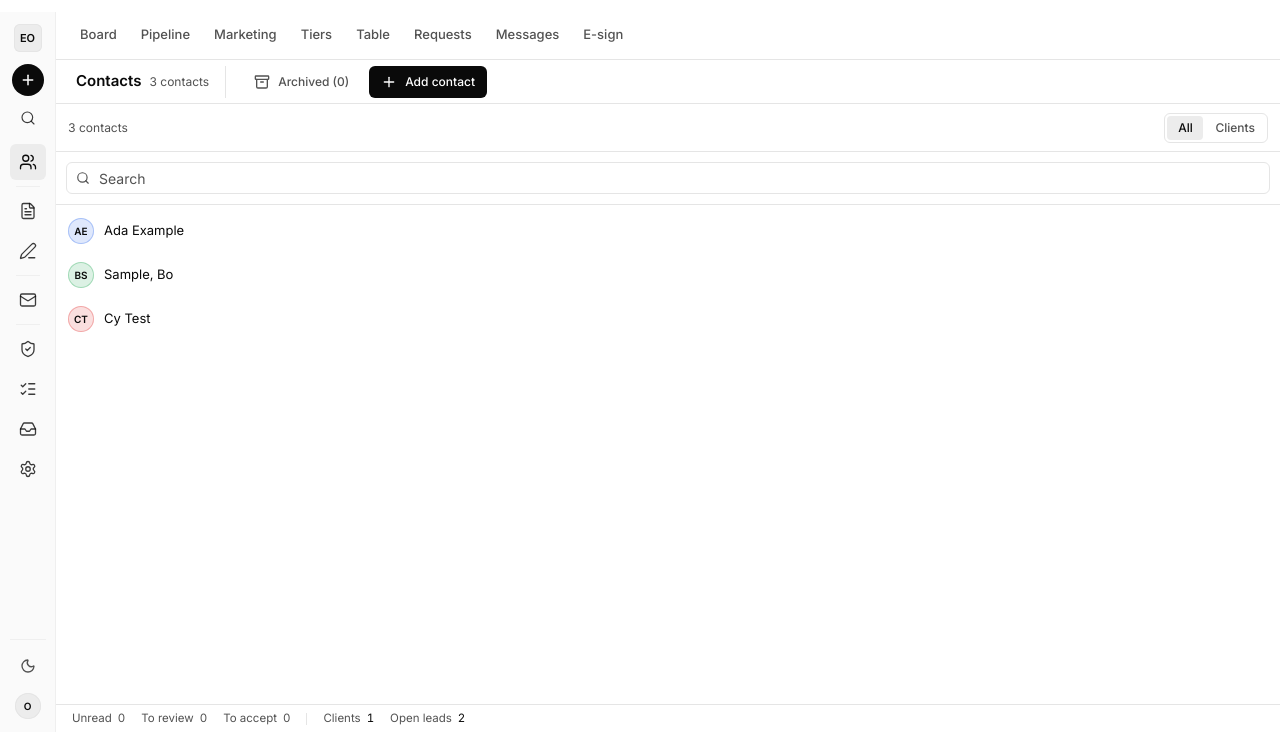
Test: contacts index › clears every cached query on sign-out
The width and height of the screenshot is (1280, 732).
Expected: the link "Sample, Bo" is shown, [104,266,173,282]
Press Enter in the button named "Signed in as", box [10,688,46,724]
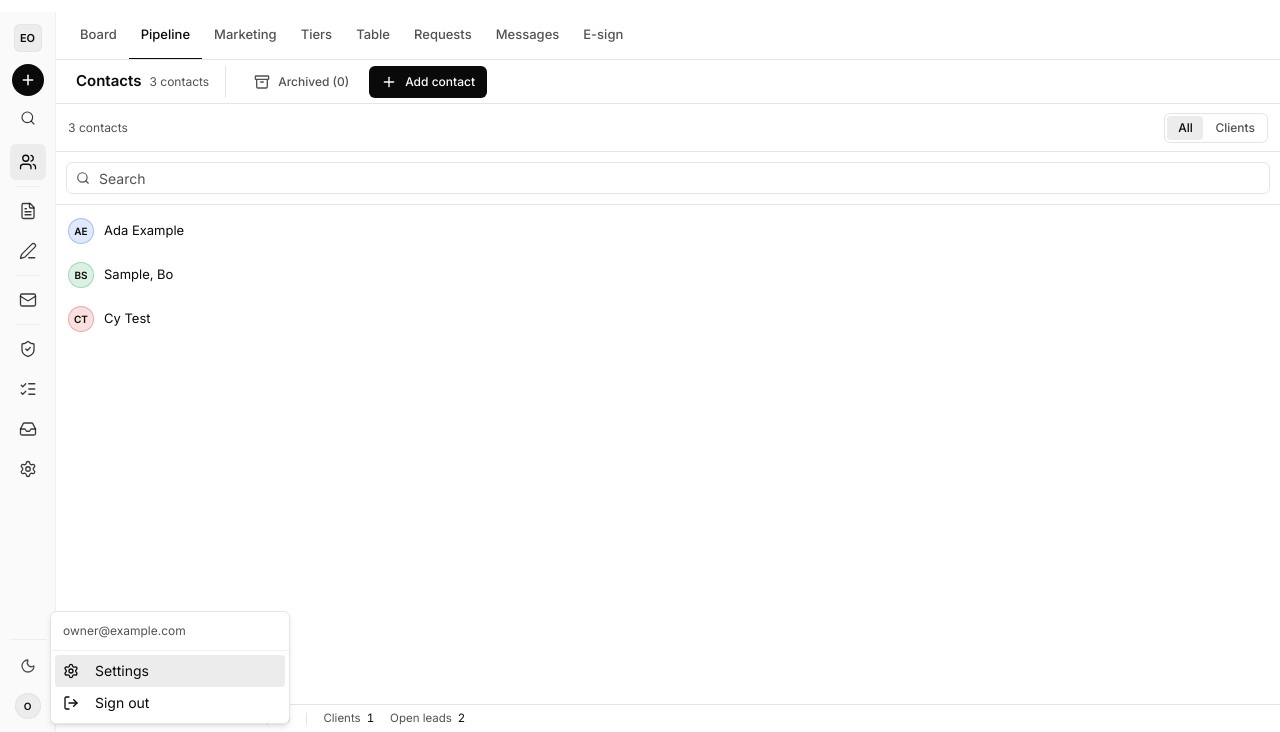
Click the menu item "Sign out" at (106, 702), box [63,694,149,711]
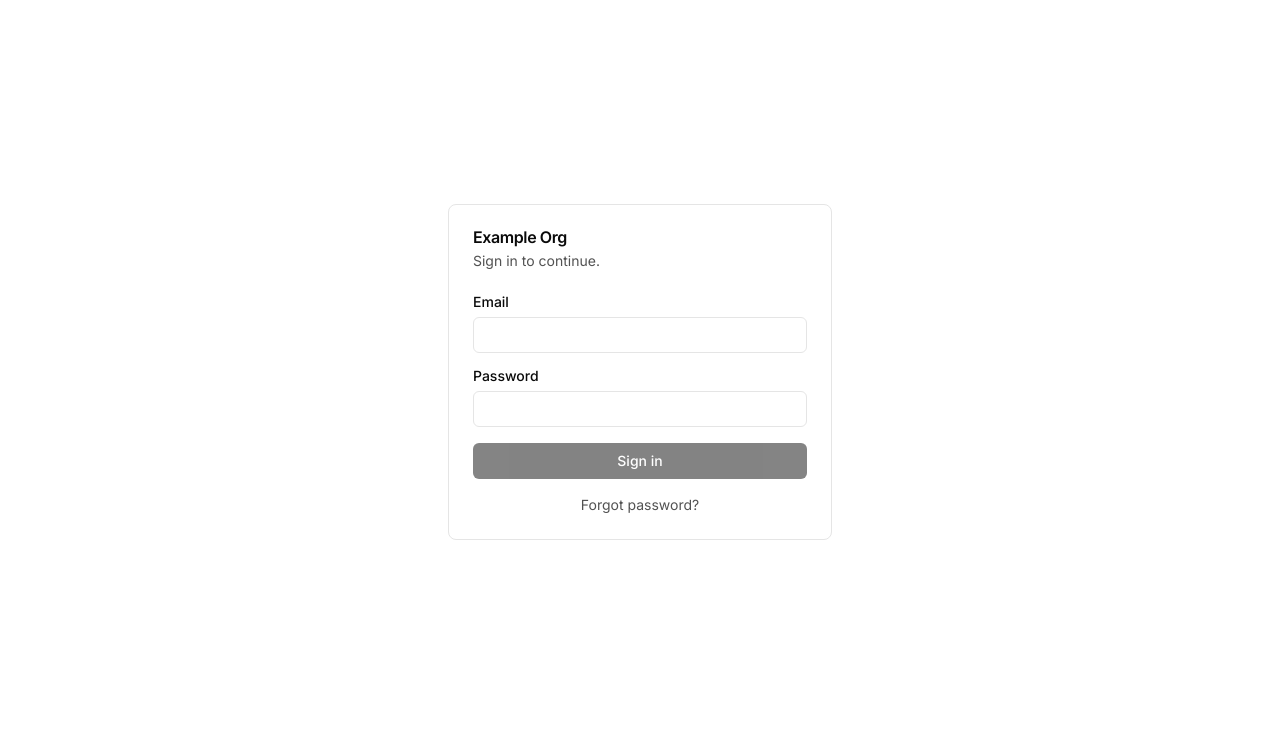
Now the field labelled "Email" is shown, box [473,317,807,353]
